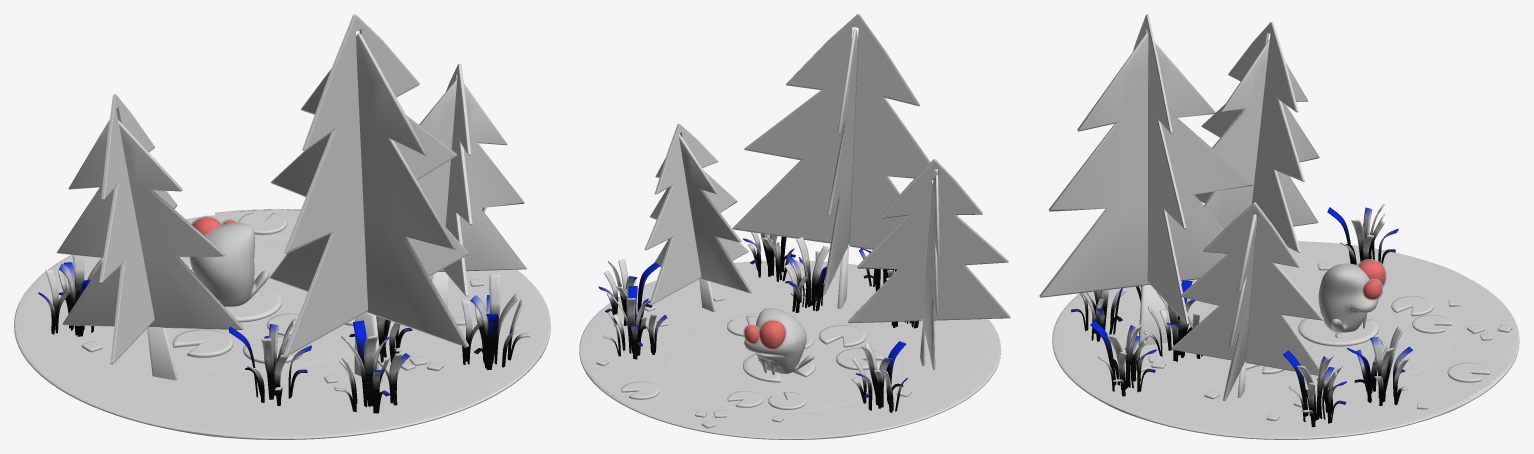
File: Frog.fbx
3 renders of one model, left to right at view 1: azimuth 30°, elevation 25°; view 2: azimuth 150°, elevation 25°; view 3: azimuth 270°, elevation 25°, orthographic. The views are drawn at different scales.
Parts seen in each view (by area): view 1: Tree2, Enviroment, Tree3, Tree1, Water2, FROG. OUT, Grass4, Grass6, Grass7, Grass1, WaterLily8, WaterLily2 (+3 smaller); view 2: Enviroment, Tree2, Tree3, Water2, Tree1, FROG. OUT, Grass5, Grass1, Grass2, Water1, Grass3, Grass4 (+7 smaller); view 3: Enviroment, Tree2, Tree1, Tree3, Water2, FROG. OUT, Grass2, Grass3, Grass4, Water1, Grass1, WaterLily2 (+6 smaller).
Part boxes in pixels (x1,y1,x2,y2): Tree2: (269,14,468,382); Enviroment: (14,215,550,439); Tree3: (56,94,243,380); Tree1: (417,64,526,308); Water2: (103,244,394,371); FROG. OUT: (189,217,269,306); Grass4: (461,274,530,369); Grass6: (334,320,409,413); Grass7: (229,318,311,405); Grass1: (38,255,102,336); WaterLily8: (172,329,233,357); WaterLily2: (225,284,281,322); Enviroment: (579,260,1001,439); Tree2: (732,14,937,308); Tree3: (848,159,1010,369); Water2: (663,312,900,412); Tree1: (644,123,752,312); FROG. OUT: (744,308,814,374); Grass5: (784,237,835,312); Grass1: (852,341,907,412); Grass2: (603,285,667,359); Water1: (586,368,662,410); Grass3: (598,259,659,329); Grass4: (743,232,795,281); Enviroment: (1052,241,1519,439); Tree2: (1039,14,1253,345); Tree1: (1171,202,1323,401); Tree3: (1195,22,1319,252); Water2: (1199,276,1456,386); FROG. OUT: (1318,260,1385,337); Grass2: (1347,326,1412,405); Grass3: (1283,350,1346,427); Grass4: (1090,320,1156,396); Water1: (1425,362,1510,408); Grass1: (1327,204,1398,264); WaterLily2: (1298,312,1378,346).
Bounding box in the file's own units: 117 × 89.77 × 121.
